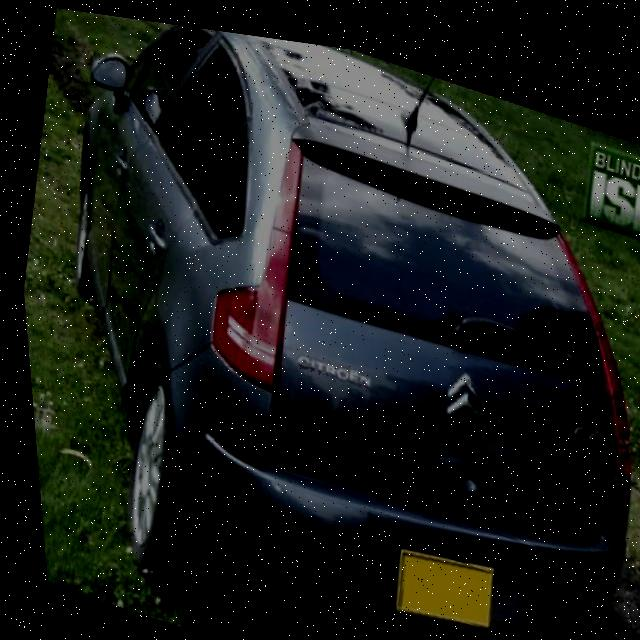license_plate: (378, 525, 492, 631)
